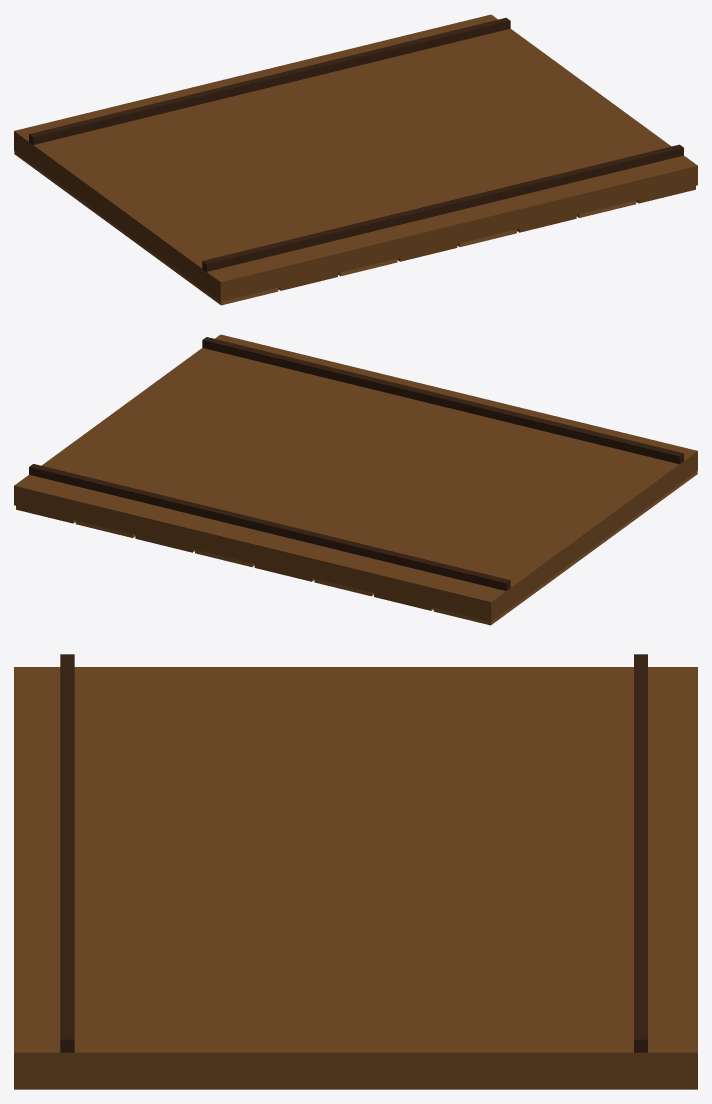
File: WallSolid.obj
3 renders of one model, top to bottom at view 1: azimuth 30°, elevation 25°; view 2: azimuth 150°, elevation 25°; view 3: azimuth 270°, elevation 25°, orthographic. The views are drawn at different scales.
Size of the model in its own units: 512 by 32 by 384.
